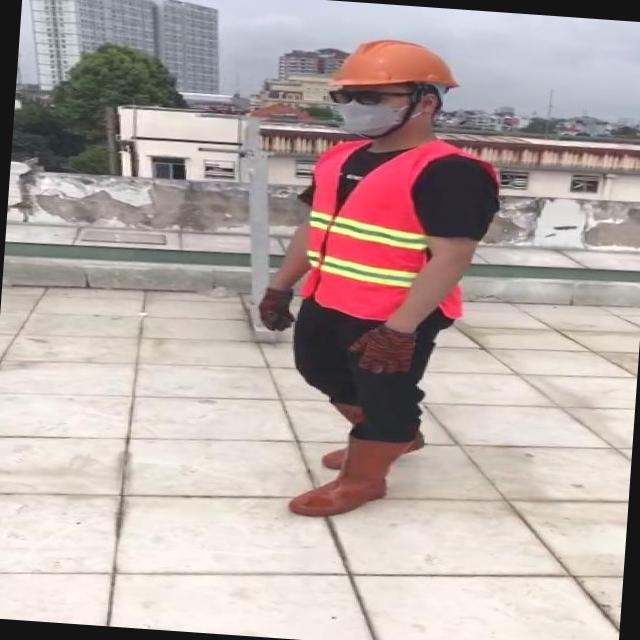boots: (286, 431, 404, 522)
helmet: (326, 34, 460, 96)
vest: (300, 133, 486, 324)
